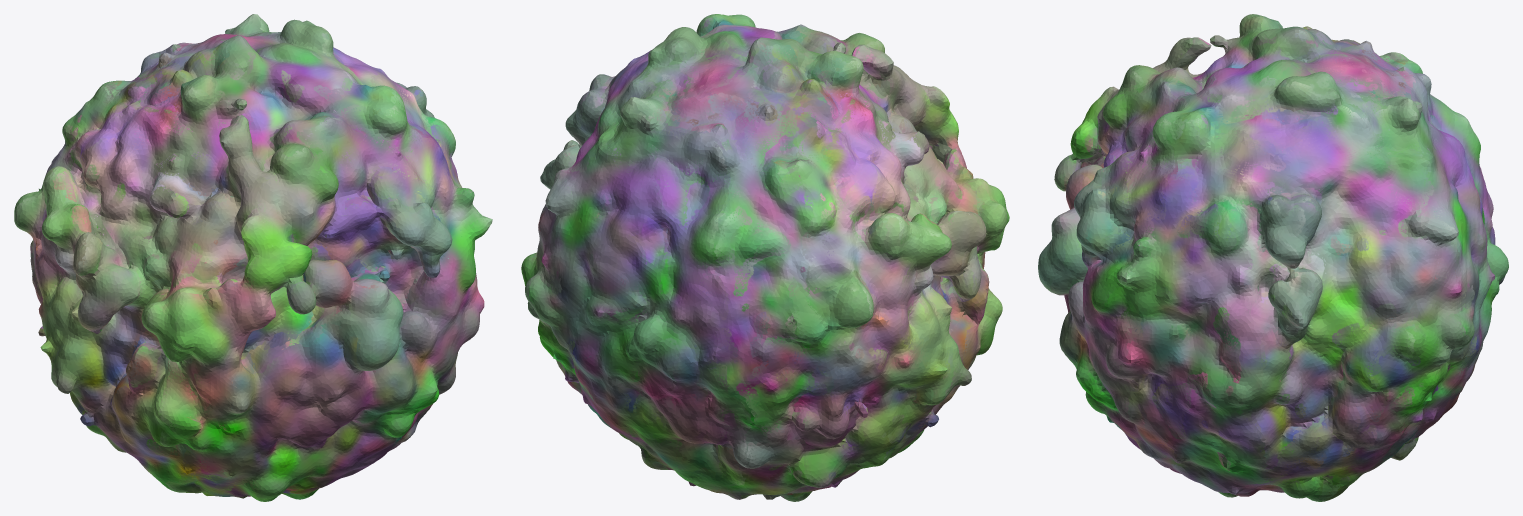
The model's file is soccer_mesh copy.glb.
The picture shows the model from 3 angles, left to right: view 1: azimuth 30°, elevation 25°; view 2: azimuth 150°, elevation 25°; view 3: azimuth 270°, elevation 25°; orthographic projection. The views are drawn at different scales.
Size of the model in its own units: 1.71 by 1.79 by 1.68.
Materials: 1 (1 with a texture image).
